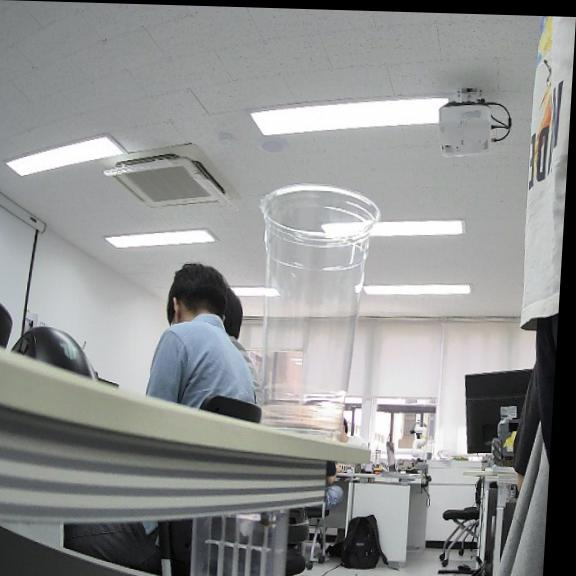Plastik: (260, 185, 380, 439)
